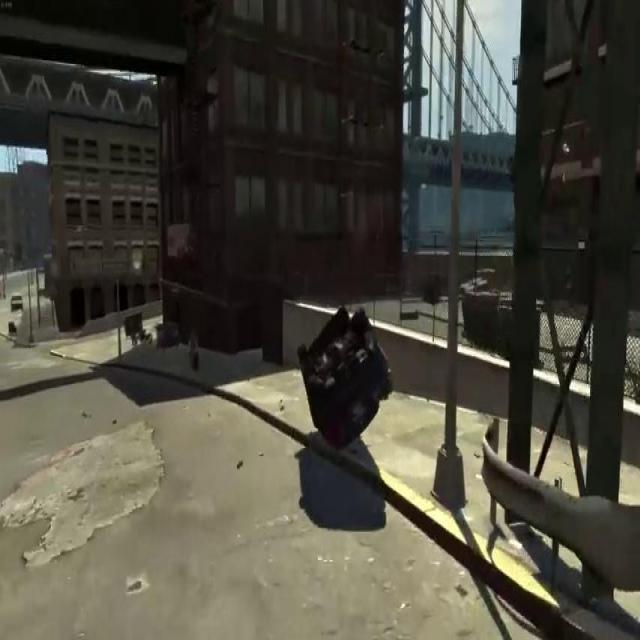accident: (294, 299, 393, 454)
